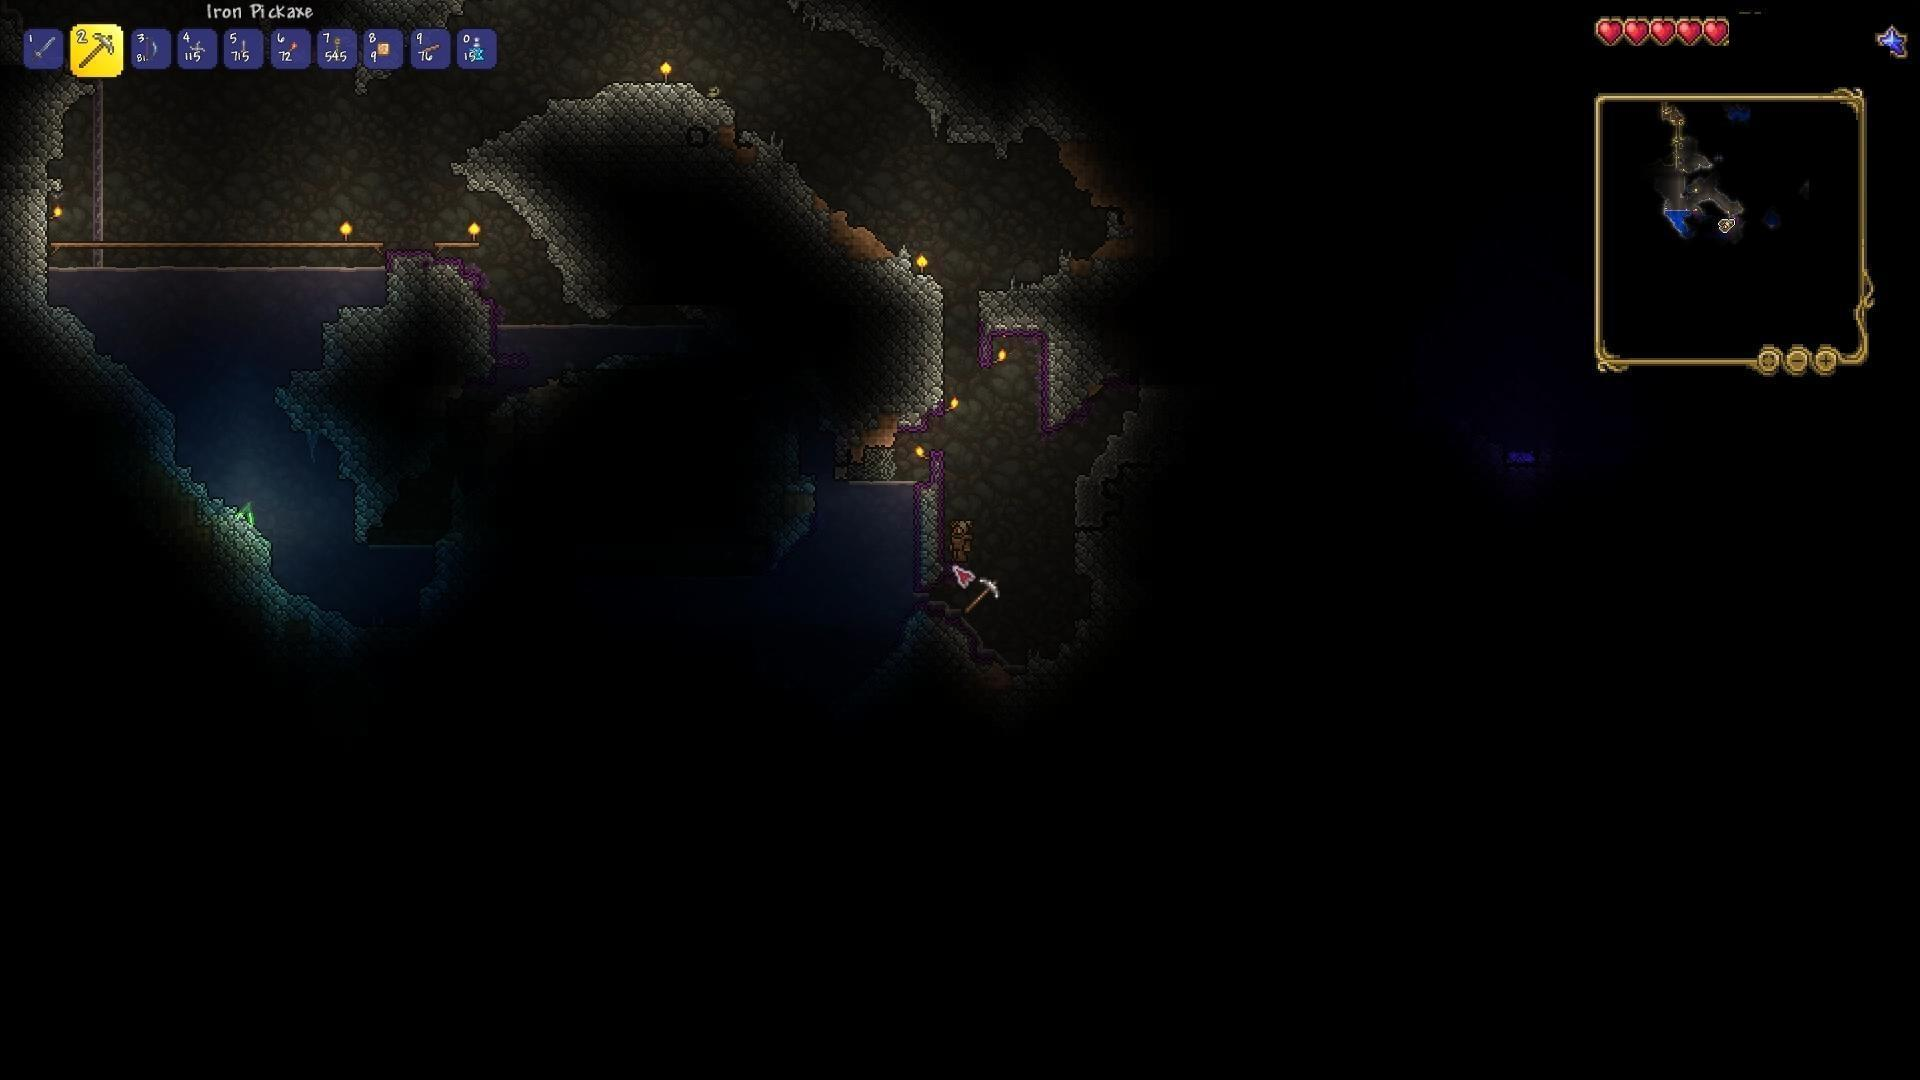heart: (1702, 17, 1733, 51), (1593, 16, 1626, 46), (1676, 15, 1704, 50), (1650, 16, 1676, 49), (1625, 15, 1651, 44)
liquid: (45, 258, 397, 278), (836, 469, 927, 502)
stone: (799, 0, 1079, 153), (290, 255, 498, 455), (25, 291, 189, 480), (454, 95, 659, 235), (977, 233, 1116, 426), (796, 284, 943, 431), (0, 94, 78, 289), (657, 82, 770, 196), (186, 492, 281, 624)
